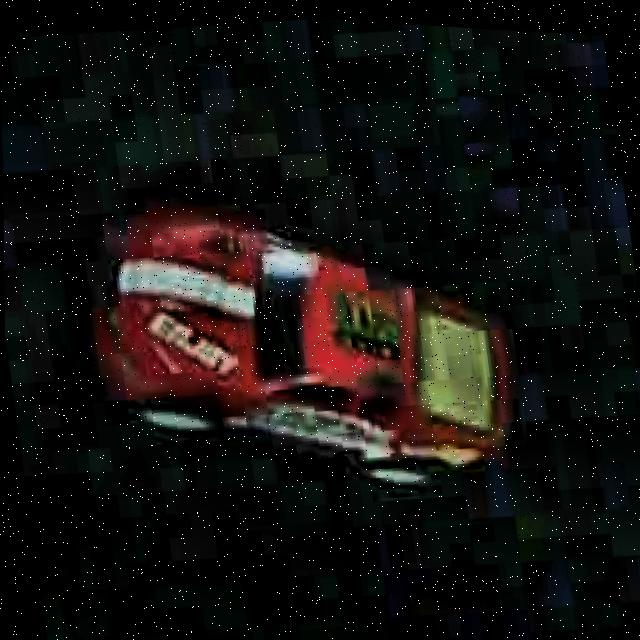car: (69, 166, 536, 536)
